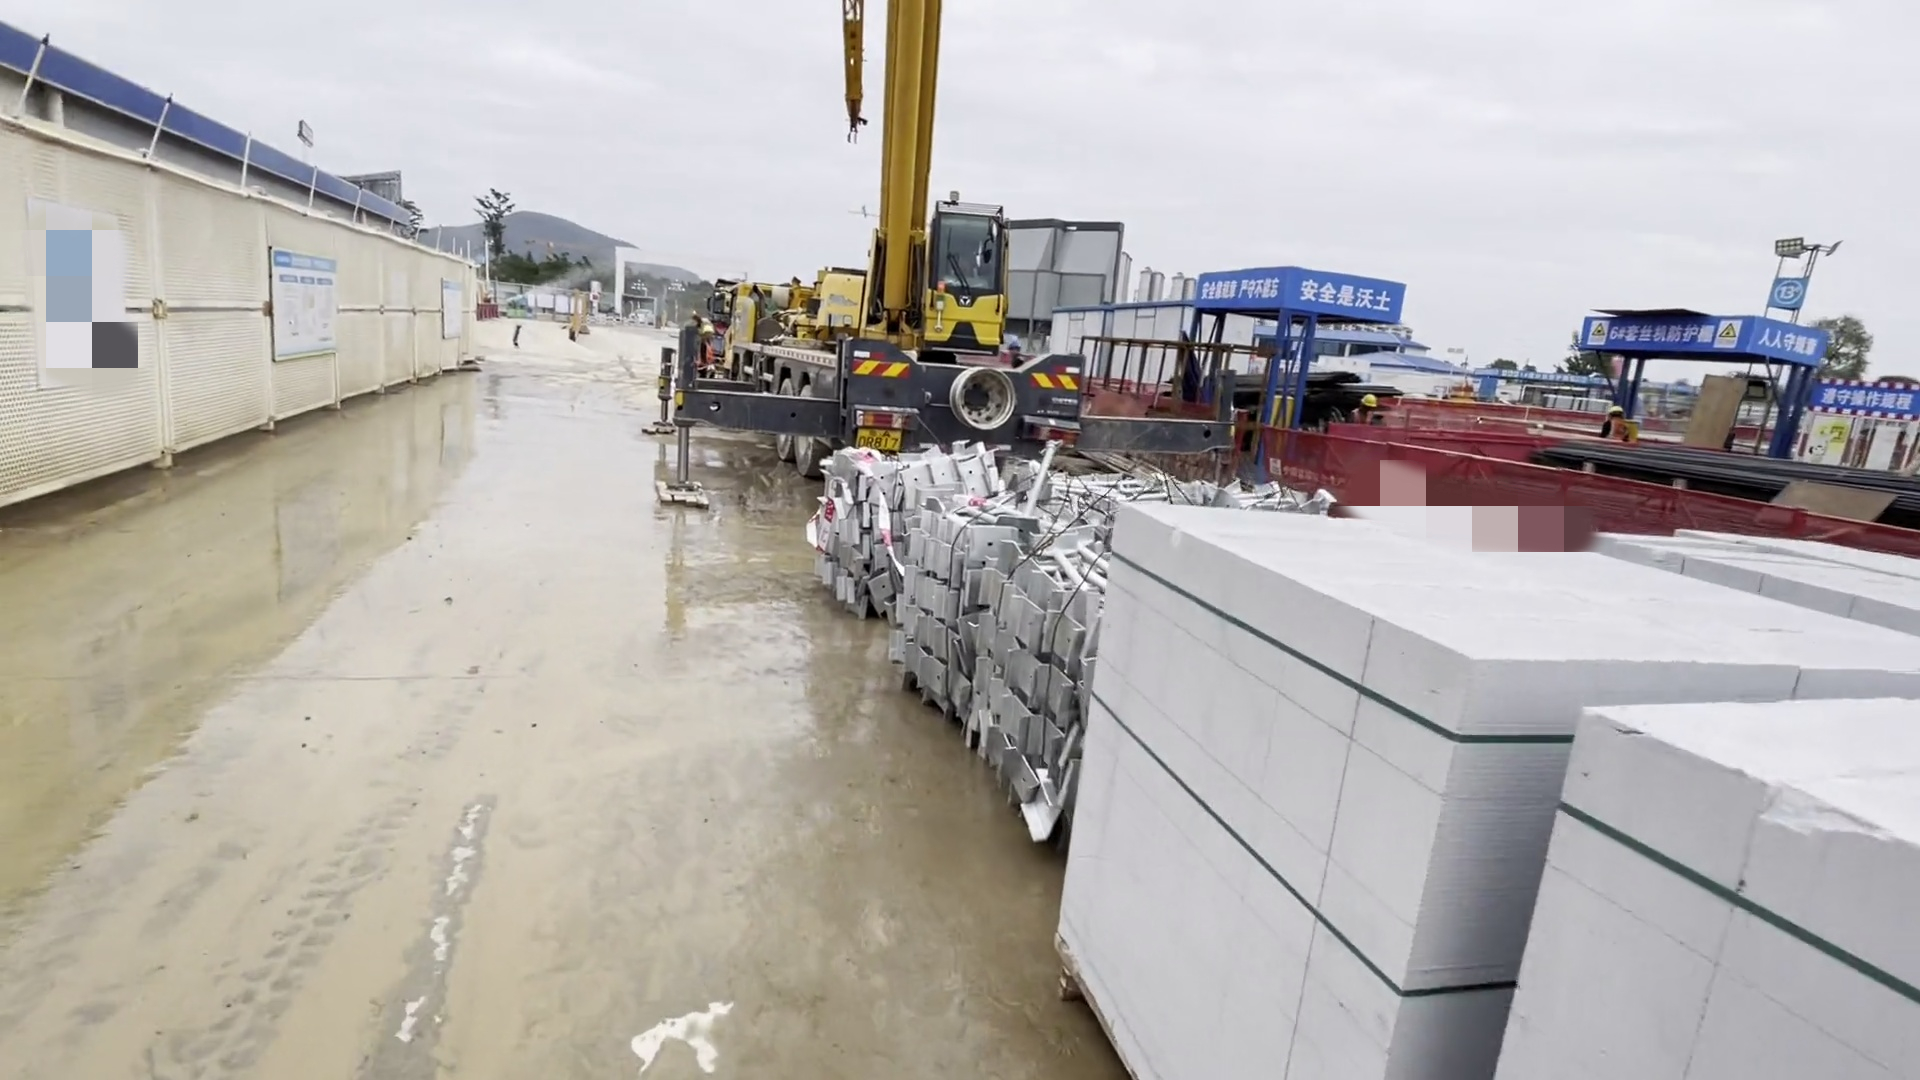brick: (1075, 488, 1920, 1075)
slogan: (1565, 301, 1841, 367), (1188, 266, 1408, 328), (262, 244, 353, 372), (1811, 372, 1920, 430)
